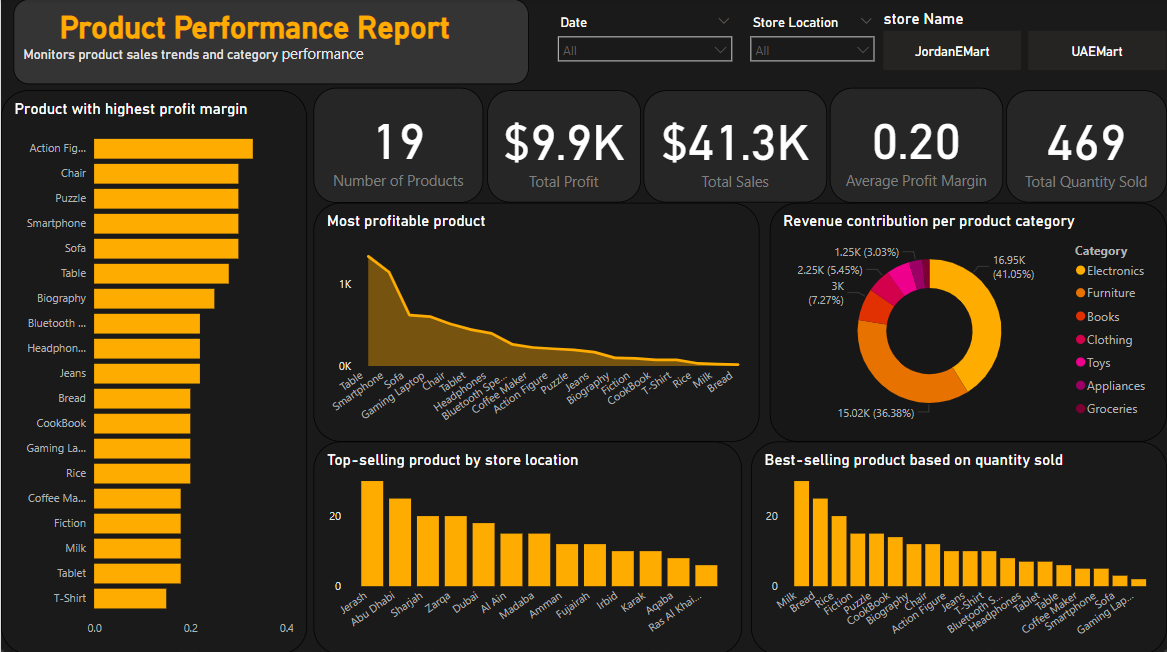

What the dashboard file says about the page in this screenshot:
{"tool":"powerbi","page":{"name":"Product Performance ","canvas":[1280,720],"ordinal":2},"visuals":[{"type":"clusteredColumnChart","title":"Best-selling product based on quantity sold","fields":{"Category":["sales.Product Name"],"Y":["Max(sales.Quantity Sold)"]},"box":[823.3,485.8,456.9,234.6],"z":0},{"type":"barChart","title":"Product with highest profit margin","fields":{"Category":["sales.Product Name"],"Y":["Max(sales.Profit Margin)"]},"box":[0,100.2,336.2,618.9],"z":1000},{"type":"donutChart","title":"Revenue contribution per product category","fields":{"Category":["sales.Category"],"Y":["Sum(sales.Total Sales)"]},"box":[843.9,223.7,436.4,262.1],"z":2000},{"type":"stackedAreaChart","title":"Most profitable product","fields":{"Category":["sales.Product Name"],"Y":["Max(sales.Profit)"]},"box":[343.1,223.7,489.9,262.1],"z":3000},{"type":"clusteredColumnChart","title":"Top-selling product by store location","fields":{"Category":["sales.Store Location"],"Y":["Max(sales.Quantity Sold)"]},"box":[343.1,485.8,470.7,234.6],"z":4000},{"type":"slicer","fields":{"Values":["sales.Store Location"]},"box":[812.4,12.3,156.4,67.2],"z":5000},{"type":"slicer","fields":{"Values":["sales.Transaction Date"]},"box":[601,12.3,211.3,67.2],"z":6000},{"type":"card","fields":{"Values":["Sum(sales.Total Sales)"]},"box":[705.3,100.2,201.7,123.5],"z":7000},{"type":"card","title":"Total profit earned","fields":{"Values":["Sum(sales.Profit)"]},"box":[533.8,100.2,168.8,123.5],"z":8000},{"type":"card","fields":{"Values":["Sum(sales.Quantity Sold)"]},"box":[1103.3,100.2,177,123.5],"z":9000},{"type":"card","fields":{"Values":["Avg(sales.Profit Margin)"]},"box":[909.8,97.4,190.7,126.2],"z":10000},{"type":"advancedSlicerVisual","fields":{"Values":["sales.tore Name"]},"box":[968.5,11,311.5,67.2],"z":11000},{"type":"textbox","box":[13.7,0,565.4,93.3],"z":12000},{"type":"card","title":"Total profit earned","fields":{"Values":["Count(sales.Product Name)"]},"box":[343.1,97.4,186.6,126.2],"z":13001}]}

Visuals, with their boxes in screenshot pixels (x1, y1, x2, y2), scaled from the page's 1280x720 canvas onto the 1167x652 screenshot:
"Best-selling product based on quantity sold" clusteredColumnChart: detection(751, 440, 1166, 651)
"Product with highest profit margin" barChart: detection(0, 91, 307, 651)
"Revenue contribution per product category" donutChart: detection(769, 203, 1166, 440)
"Most profitable product" stackedAreaChart: detection(313, 203, 759, 440)
"Top-selling product by store location" clusteredColumnChart: detection(313, 440, 742, 651)
slicer - sales.Store Location: detection(741, 11, 883, 72)
slicer - sales.Transaction Date: detection(548, 11, 741, 72)
card - Sum(sales.Total Sales): detection(643, 91, 827, 203)
"Total profit earned" card: detection(487, 91, 641, 203)
card - Sum(sales.Quantity Sold): detection(1006, 91, 1166, 203)
card - Avg(sales.Profit Margin): detection(829, 88, 1003, 202)
advancedSlicerVisual - sales.tore Name: detection(883, 10, 1166, 71)
textbox: detection(12, 0, 528, 84)
"Total profit earned" card: detection(313, 88, 483, 202)
